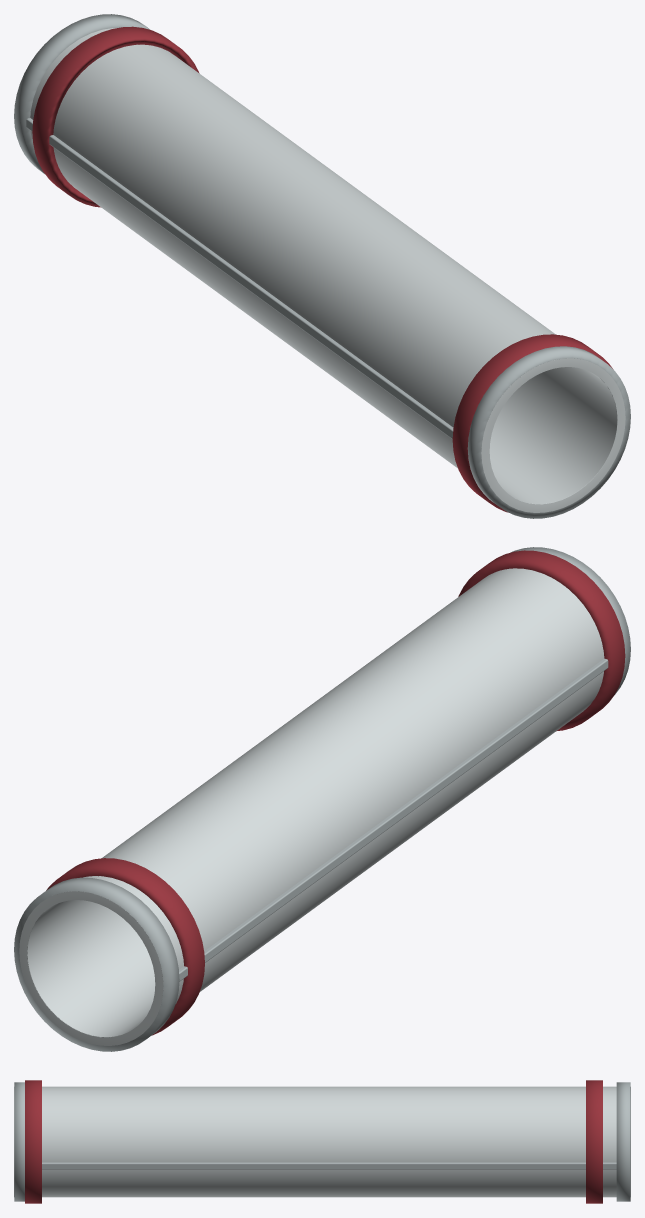
The model's file is pneumatic-tube-mail-exchange-pneumatic-tube-mail-excha-3b9916e6__32279.glb.
3 views of the same model, one above another, from view 1: azimuth 30°, elevation 25°; view 2: azimuth 150°, elevation 25°; view 3: azimuth 270°, elevation 25° (orthographic). The views are drawn at different scales.
Parts seen in each view (by area): view 1: pneumatic-tube-mail-exchange-glazed-inspection-tube; view 2: pneumatic-tube-mail-exchange-glazed-inspection-tube; view 3: pneumatic-tube-mail-exchange-glazed-inspection-tube.
Boxes of the visible parts, left/top/right/bottom form: pneumatic-tube-mail-exchange-glazed-inspection-tube: left=14, top=14, right=630, bottom=518; pneumatic-tube-mail-exchange-glazed-inspection-tube: left=14, top=547, right=630, bottom=1051; pneumatic-tube-mail-exchange-glazed-inspection-tube: left=14, top=1080, right=630, bottom=1203.
Size of the model in its own units: 0.3999 by 0.3999 by 2.
